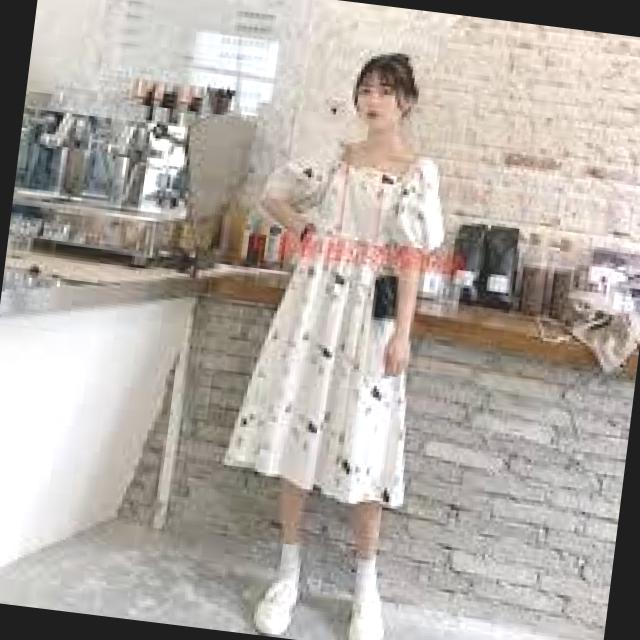dress: (194, 121, 457, 520)
